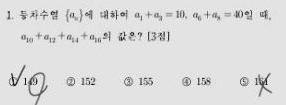choice: (7, 72, 20, 87)
not-choice: (122, 75, 134, 87), (238, 75, 249, 87), (65, 76, 76, 87), (181, 76, 192, 87)
